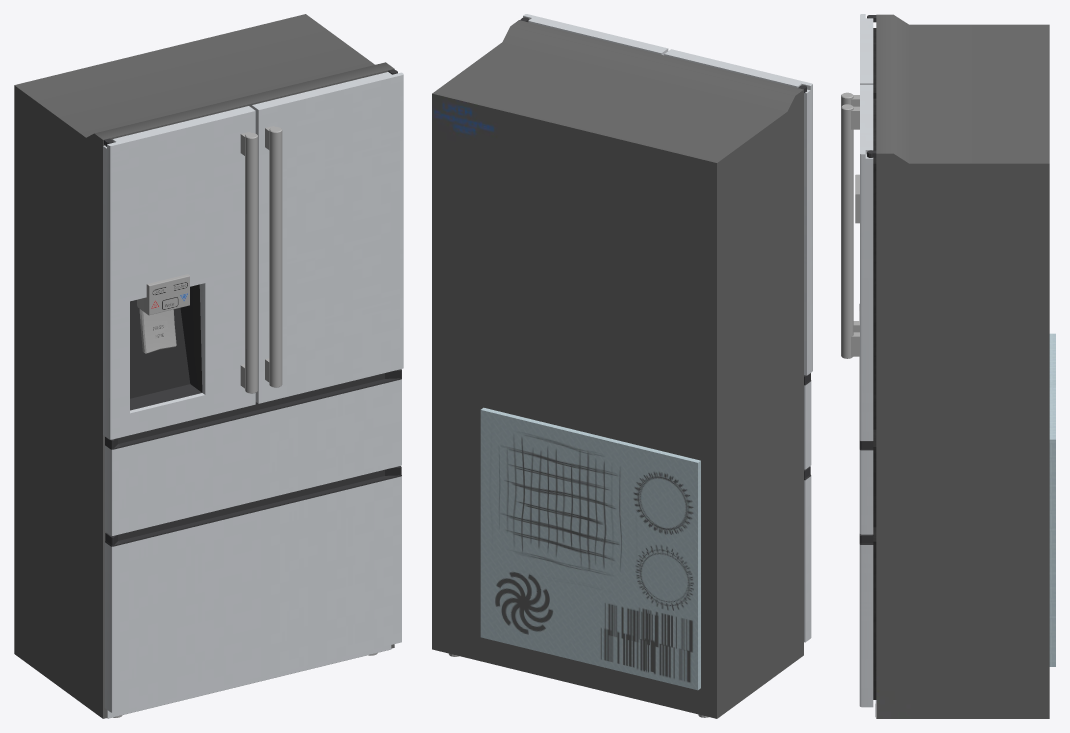
File: muzlatgich.glb
The picture shows the model from 3 angles, left to right: view 1: azimuth 30°, elevation 25°; view 2: azimuth 150°, elevation 25°; view 3: azimuth 270°, elevation 25°; orthographic projection. The views are drawn at different scales.
Visible parts, largest first — view 1: pCube17_Fridge_Stainless_0, pCube17_Fridge_Body_0, pCube17_Fridge_Plastic_0, pCube17_Fridge_Brushed_0; view 2: pCube17_Fridge_Body_0, pCube17_Fridge_Radiator_0, pCube17_Fridge_Stainless_0; view 3: pCube17_Fridge_Body_0, pCube17_Fridge_Stainless_0, pCube17_Fridge_Brushed_0, pCube17_Fridge_Gasket_0, pCube17_Fridge_Radiator_0, pCube17_Fridge_Plastic_0.
Boxes of the visible parts, x1,y1,x2,y2 form: pCube17_Fridge_Stainless_0: [103, 72, 403, 718]; pCube17_Fridge_Body_0: [14, 14, 394, 718]; pCube17_Fridge_Plastic_0: [103, 69, 401, 546]; pCube17_Fridge_Brushed_0: [113, 126, 377, 717]; pCube17_Fridge_Body_0: [432, 20, 803, 718]; pCube17_Fridge_Radiator_0: [480, 407, 700, 690]; pCube17_Fridge_Stainless_0: [523, 14, 812, 642]; pCube17_Fridge_Body_0: [876, 14, 1049, 718]; pCube17_Fridge_Stainless_0: [859, 14, 875, 717]; pCube17_Fridge_Brushed_0: [841, 92, 859, 358]; pCube17_Fridge_Gasket_0: [873, 28, 876, 699]; pCube17_Fridge_Radiator_0: [1049, 333, 1055, 666]; pCube17_Fridge_Plastic_0: [859, 15, 876, 544].
Bounding box in the file's own units: 0.9595 × 1.82 × 0.6205.
Materials: 6 (5 with a texture image).
